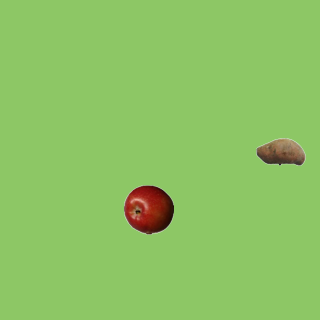Apple Braeburn: (123, 184, 173, 234)
Potato Sweet: (255, 126, 305, 176)
